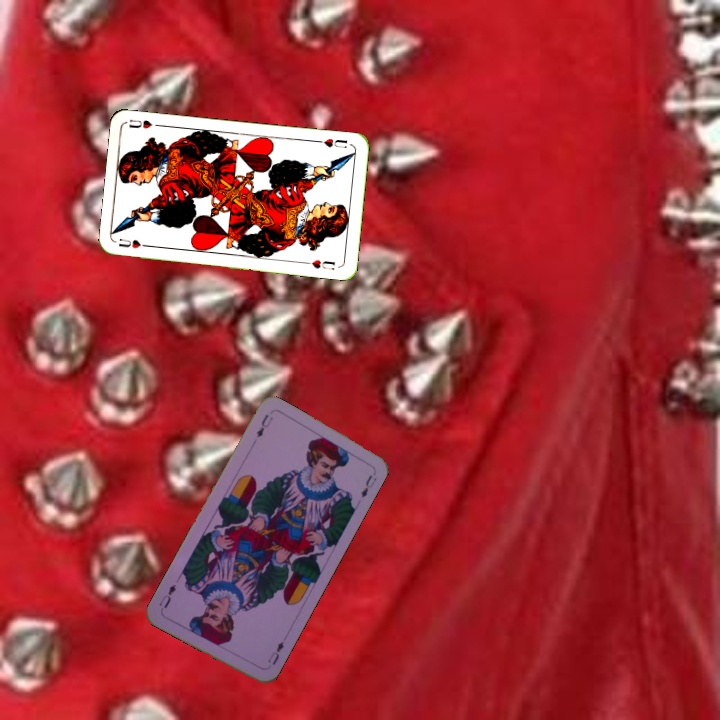EU: (252, 410, 276, 440), (264, 637, 286, 667)
HU: (114, 235, 154, 251), (313, 134, 350, 150)
